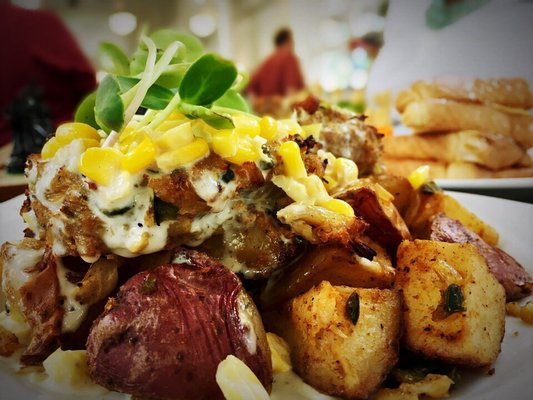pizza: (243, 25, 309, 116)
